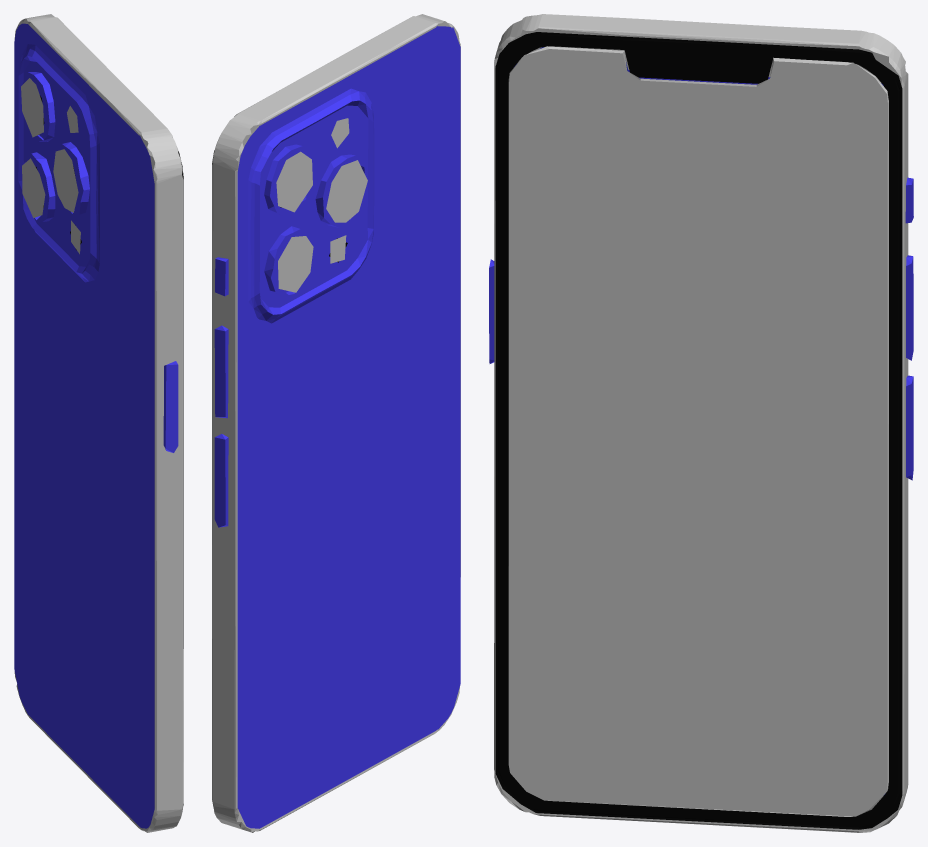
File: sequenceExportTest.fbx
The picture shows the model from 3 angles, left to right: view 1: azimuth 30°, elevation 25°; view 2: azimuth 150°, elevation 25°; view 3: azimuth 270°, elevation 25°; orthographic projection. The views are drawn at different scales.
Visible parts, largest first — view 1: BP_Phone; view 2: BP_Phone; view 3: BP_Phone.
Part boxes in pixels (<box>): BP_Phone: <box>14,14,183,832</box>; BP_Phone: <box>212,14,460,832</box>; BP_Phone: <box>489,14,913,832</box>.
Size of what is drawn, in the model's own units: 41.14 by 196 by 402.
